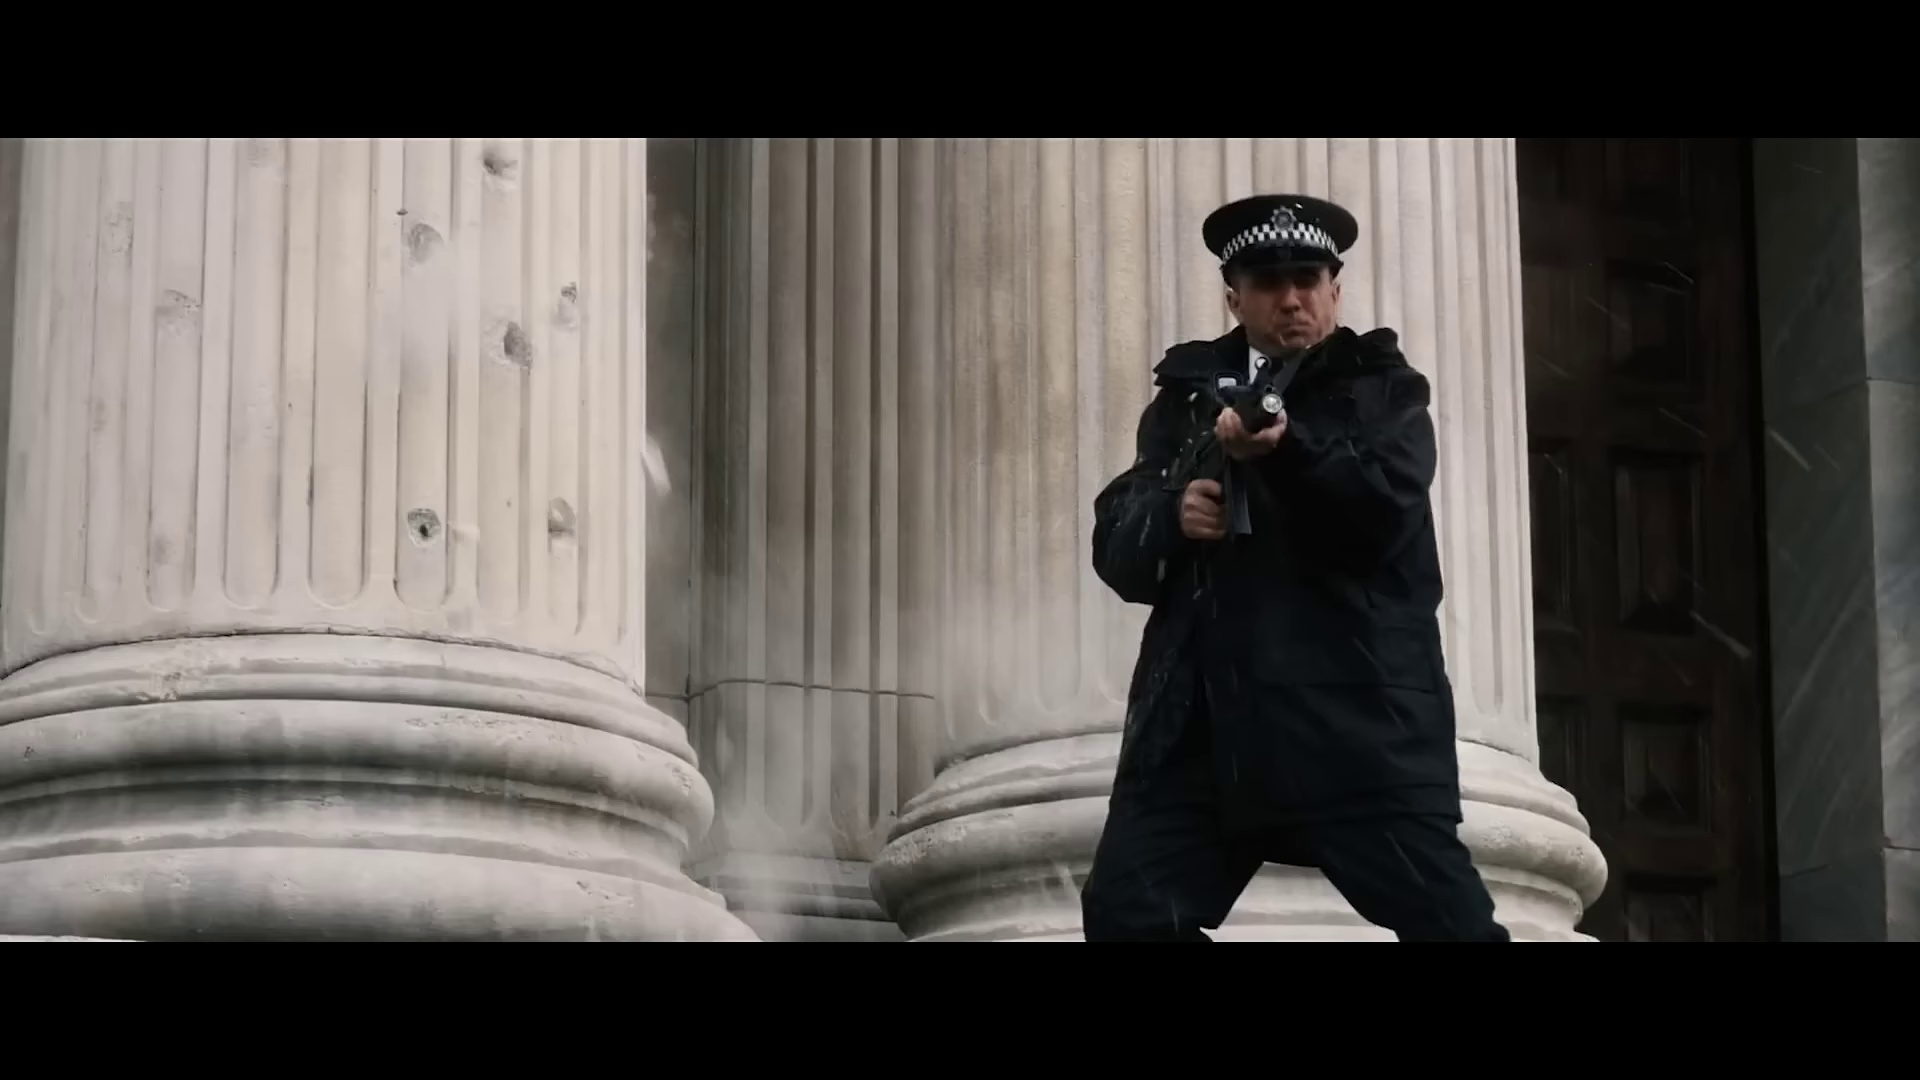gun: (1130, 344, 1296, 555)
p_w_gun: (1075, 191, 1513, 952)
